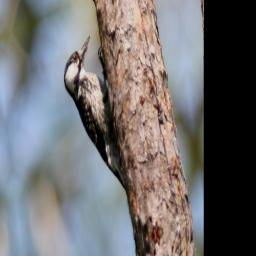Woodpecker: (59, 26, 127, 222)
